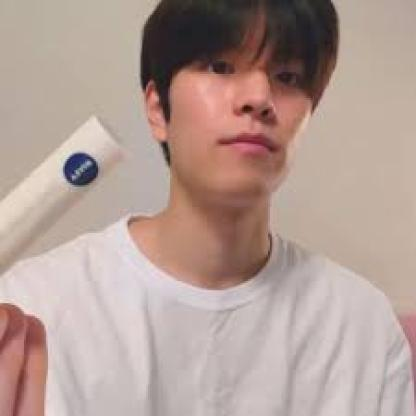person: (142, 3, 343, 206)
